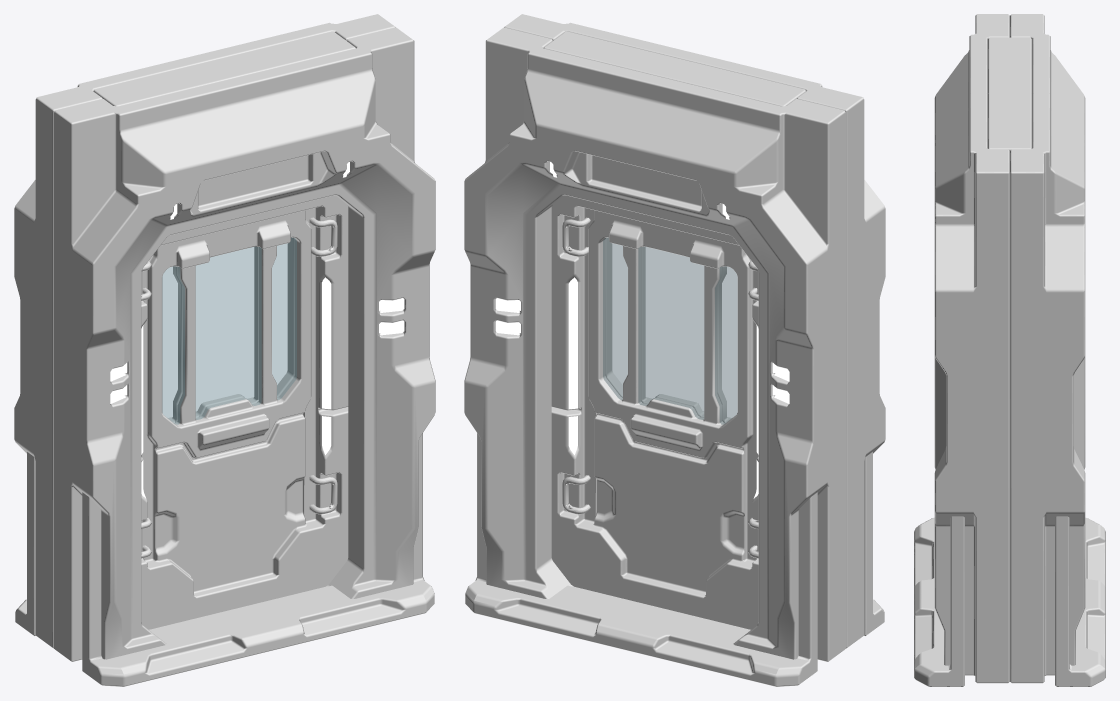
The model's file is DoorA2x3.glb.
3 views of the same model, side by side, from view 1: azimuth 30°, elevation 25°; view 2: azimuth 150°, elevation 25°; view 3: azimuth 270°, elevation 25° (orthographic). The views are drawn at different scales.
Visible parts, largest first — view 1: DoorFrameA2x3, DoorA2x3; view 2: DoorFrameA2x3, DoorA2x3; view 3: DoorFrameA2x3.
Part boxes in pixels (x1,y1,x2,y2): DoorFrameA2x3: [14, 14, 435, 686]; DoorA2x3: [141, 195, 348, 629]; DoorFrameA2x3: [464, 14, 885, 686]; DoorA2x3: [551, 195, 758, 629]; DoorFrameA2x3: [914, 14, 1105, 686].
Size of what is drawn, in the model's own units: 2 by 3.03 by 1.02.
